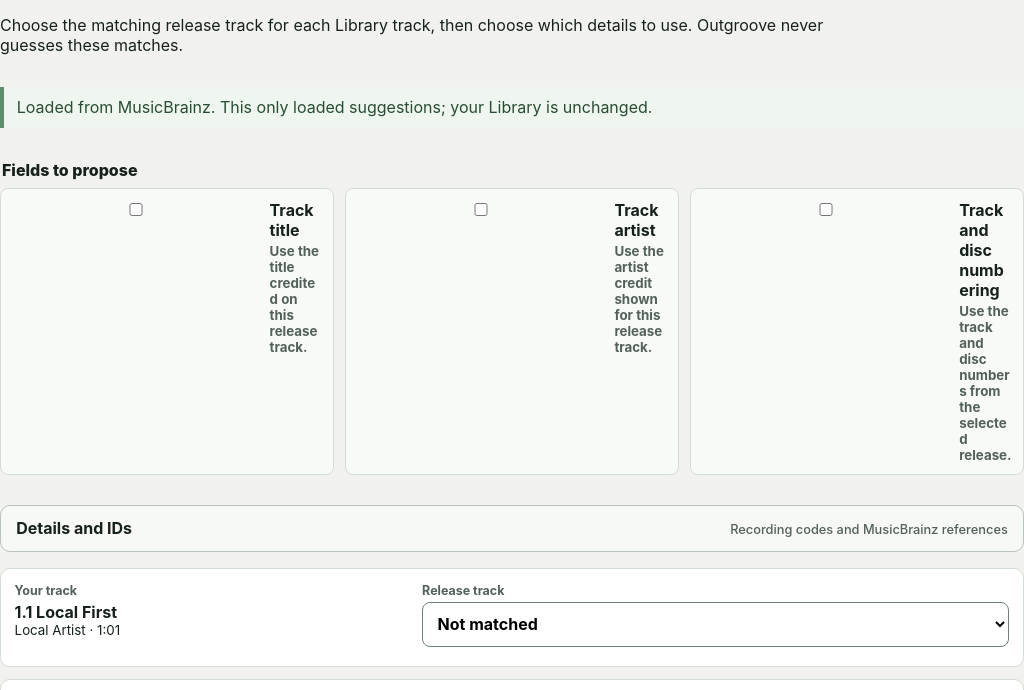
Scenario: MusicBrainzTrackMapper › keeps advanced fields collapsed, prevents duplicate remote choices, and exposes omissions
The width and height of the screenshot is (1024, 690).
Click the text "Details and IDs" at (74, 528), box [16,518,132,538]
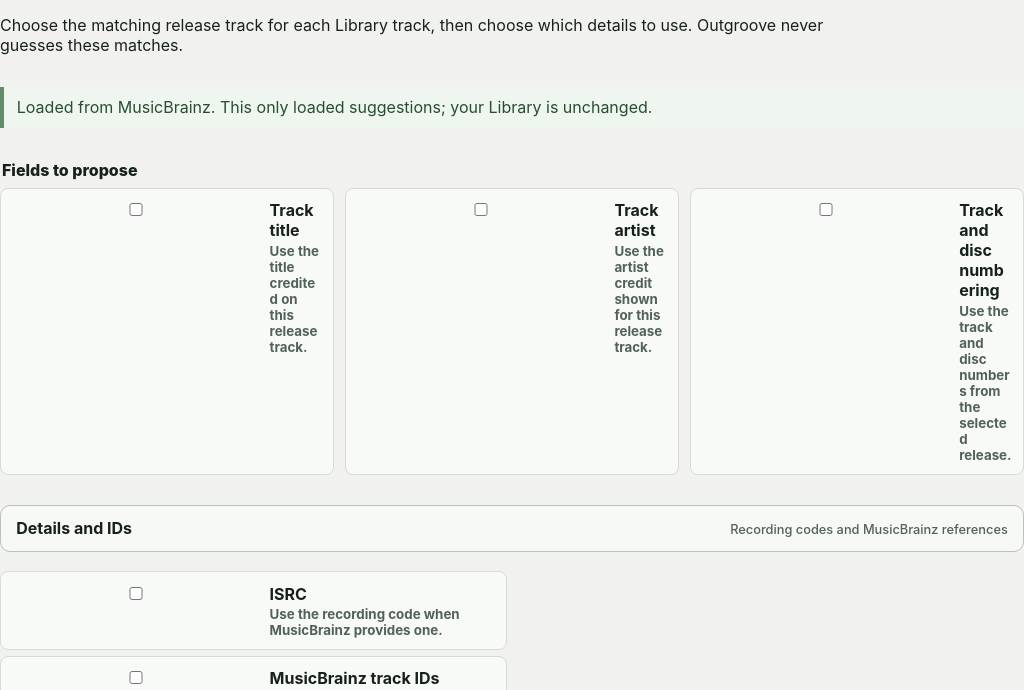
Click the checkbox labelled "ISRC Use the recording code when MusicBrainz provides one." at (136, 593), box [16,587,256,600]
(page scrolled)
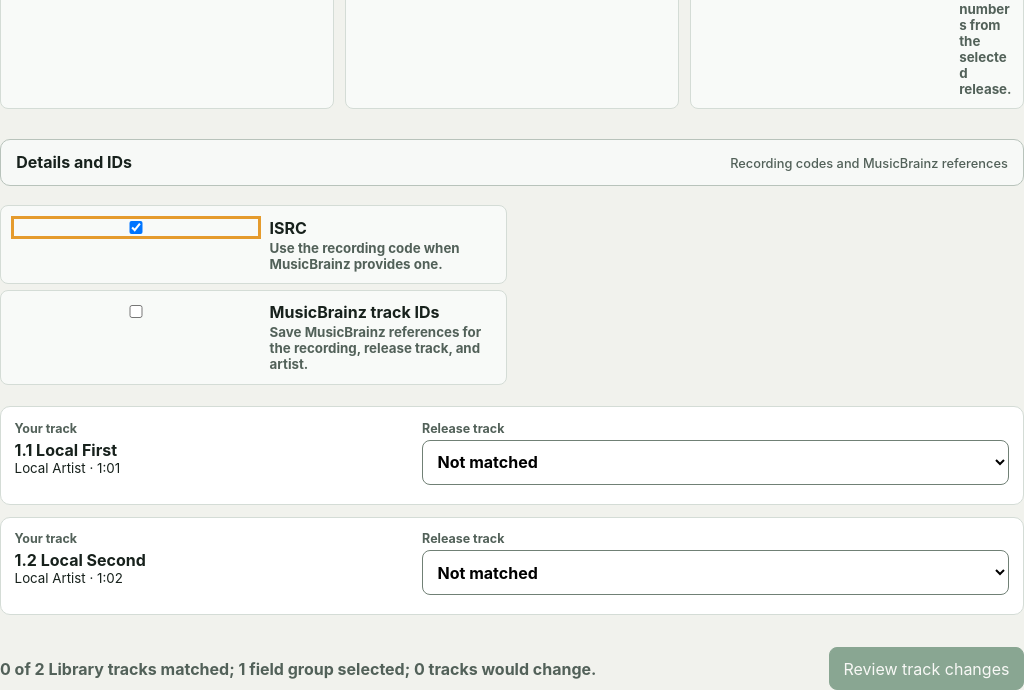
Select "Disc 1, track 1: Remote First — Remote Artist (1:01)" in the dropdown named "Release track for Local First" at (716, 462), box [422,440,1009,484]
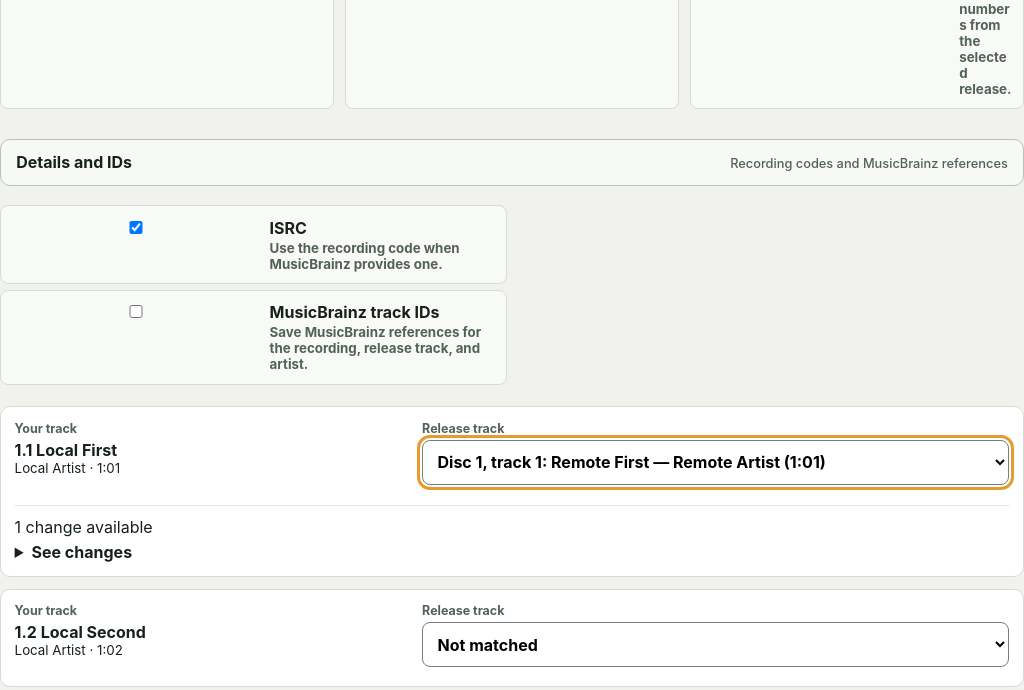
Select "Disc 2, track 1: Remote Second — artist unknown (duration unknown)" in the dropdown named "Release track for Local Second" at (716, 645), box [422,622,1009,667]
(page scrolled)
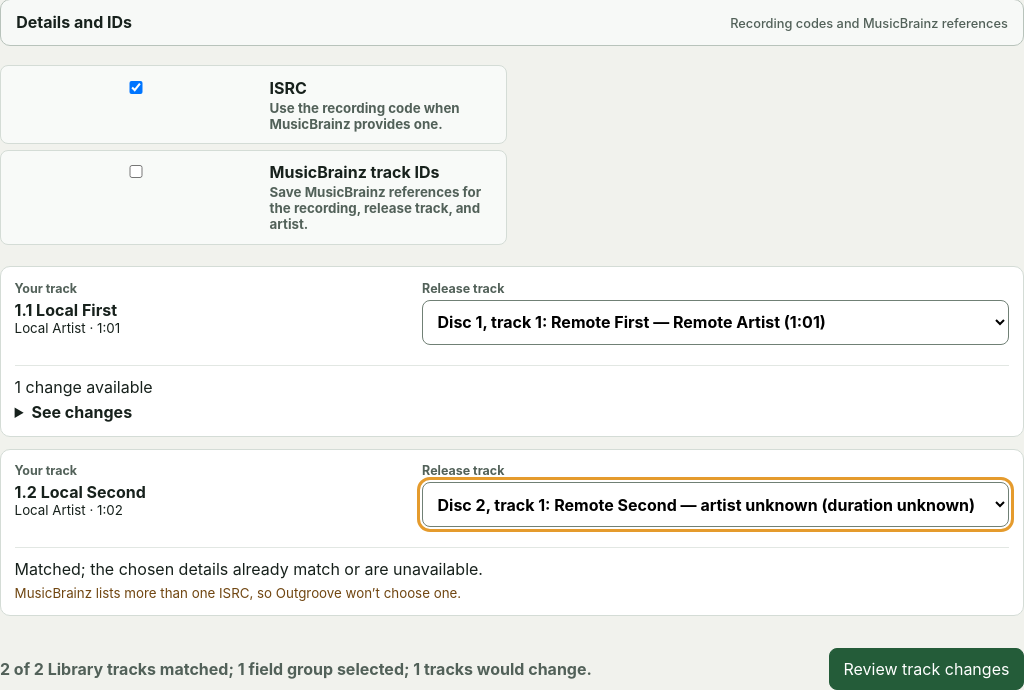
Check: the text "MusicBrainz lists more than one ISRC" is shown, box [15,585,461,601]
